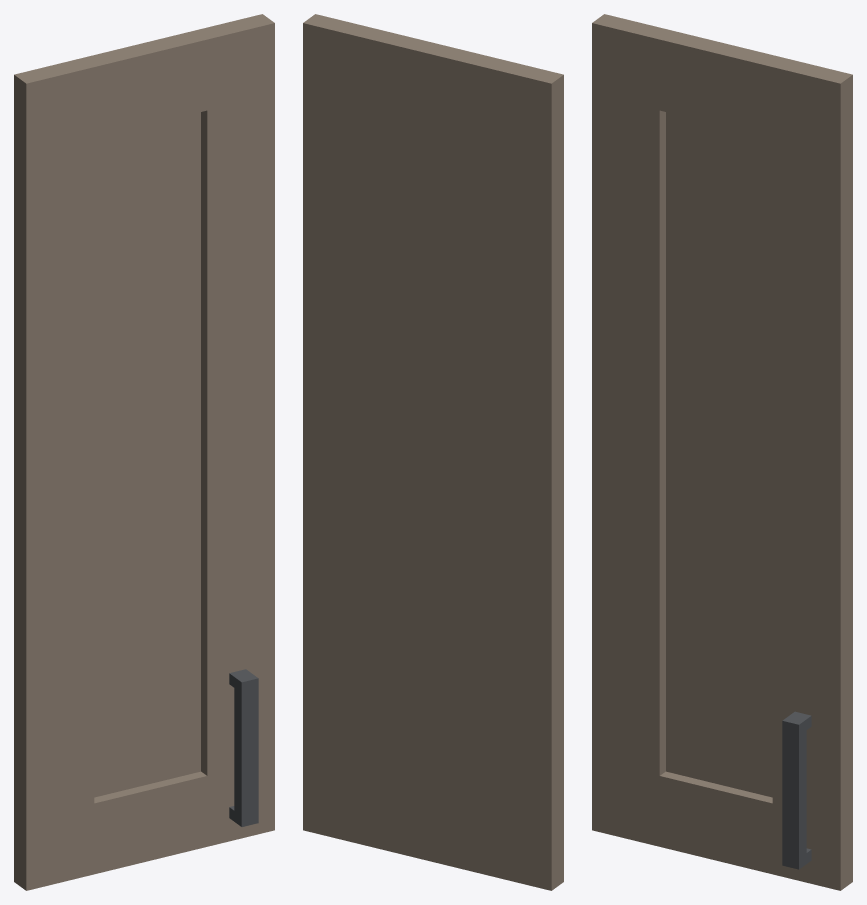
File: Door2_C5_14.fbx
3 renders of one model, left to right at view 1: azimuth 30°, elevation 25°; view 2: azimuth 150°, elevation 25°; view 3: azimuth 330°, elevation 25°, orthographic.
Parts seen in each view (by area): view 1: Door2_C5_14; view 2: Door2_C5_14; view 3: Door2_C5_14.
Boxes of the visible parts, bbox=[...] form: Door2_C5_14: bbox=[14, 14, 274, 890]; Door2_C5_14: bbox=[303, 14, 563, 890]; Door2_C5_14: bbox=[592, 14, 852, 890].
Size of the model in its own units: 29 by 90 by 5.03.
